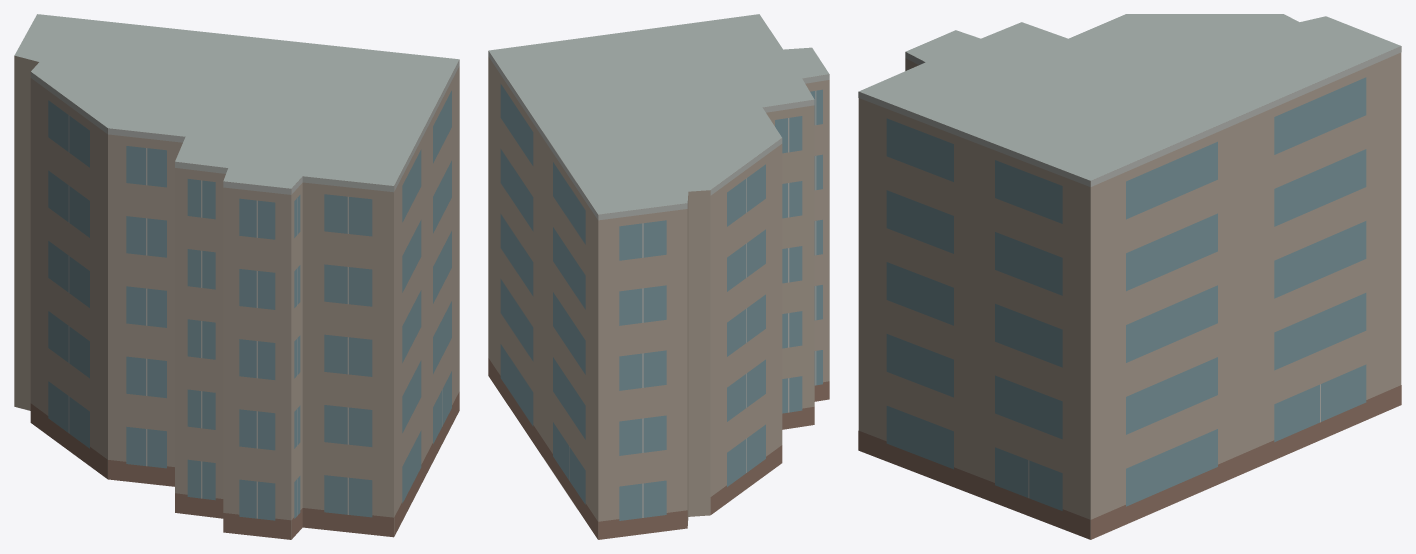
Rendered from survey-upis-32878871.glb.
The picture shows the model from 3 angles, left to right: view 1: azimuth 30°, elevation 25°; view 2: azimuth 150°, elevation 25°; view 3: azimuth 270°, elevation 25°; orthographic projection. The views are drawn at different scales.
Parts seen in each view (by area): view 1: survey-upis-32878871.tmp; view 2: survey-upis-32878871.tmp; view 3: survey-upis-32878871.tmp.
Boxes of the visible parts, left/top/right/bottom form: survey-upis-32878871.tmp: left=14, top=14, right=459, bottom=539; survey-upis-32878871.tmp: left=488, top=14, right=829, bottom=539; survey-upis-32878871.tmp: left=858, top=14, right=1401, bottom=539.
Bounding box in the file's own units: 13.76 × 13.8 × 18.92.
